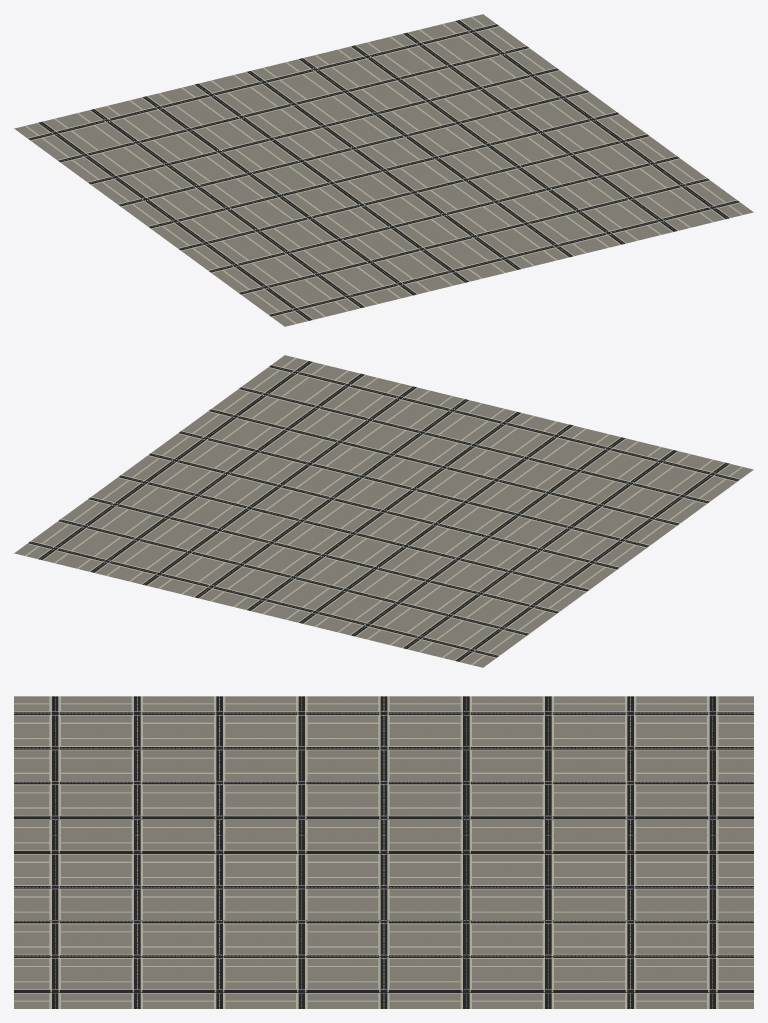
The model's file is road.glb.
3 views of the same model, one above another, from view 1: azimuth 30°, elevation 25°; view 2: azimuth 150°, elevation 25°; view 3: azimuth 270°, elevation 25° (orthographic). The views are drawn at different scales.
Parts seen in each view (by area): view 1: 平面017_1, 平面017_4, 平面017_2, 平面017_3; view 2: 平面017_1, 平面017_4, 平面017_2, 平面017_3; view 3: 平面017_1, 平面017_4, 平面017_2, 平面017_3.
Part boxes in pixels (x1=…): 平面017_1: x1=14, y1=14, x2=753, y2=326; 平面017_4: x1=25, y1=16, x2=742, y2=323; 平面017_2: x1=28, y1=20, x2=739, y2=320; 平面017_3: x1=29, y1=20, x2=737, y2=320; 平面017_1: x1=14, y1=355, x2=753, y2=667; 平面017_4: x1=25, y1=357, x2=742, y2=664; 平面017_2: x1=28, y1=361, x2=739, y2=661; 平面017_3: x1=30, y1=361, x2=738, y2=661; 平面017_1: x1=14, y1=696, x2=753, y2=1008; 平面017_4: x1=14, y1=696, x2=753, y2=1008; 平面017_2: x1=14, y1=696, x2=753, y2=1008; 平面017_3: x1=14, y1=696, x2=753, y2=1008.
Size of the model in its own units: 900 by 0.3173 by 900.
4 materials, 2 textured.
